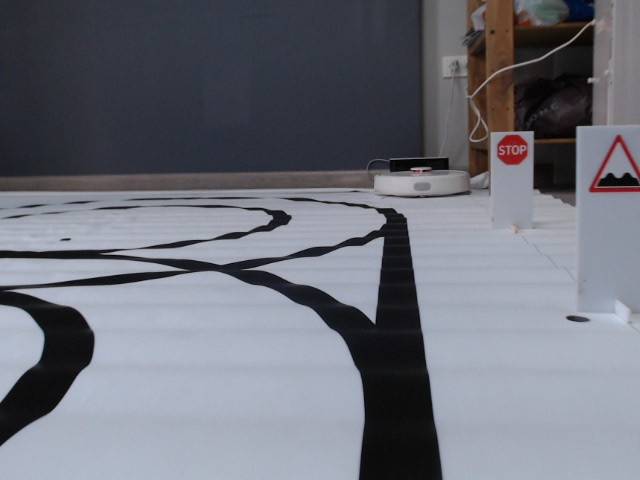Nerov: (588, 134, 640, 194)
Stop: (495, 134, 528, 164)
